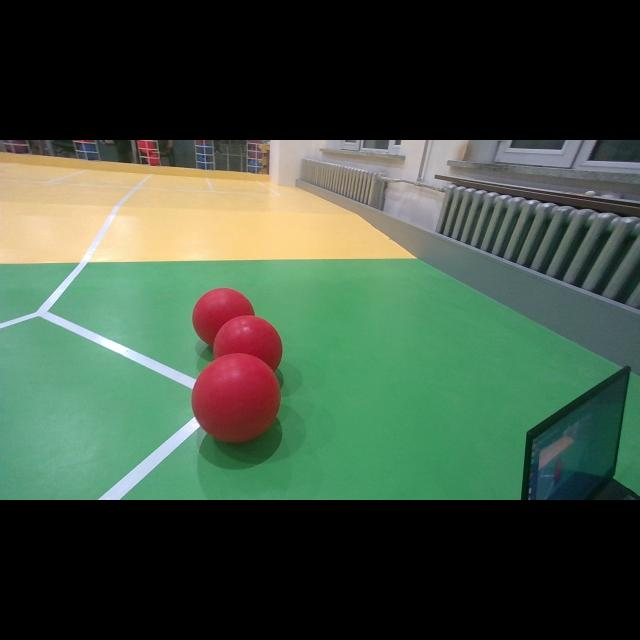R: (192, 352, 280, 442), (208, 316, 282, 376), (185, 285, 251, 347)
